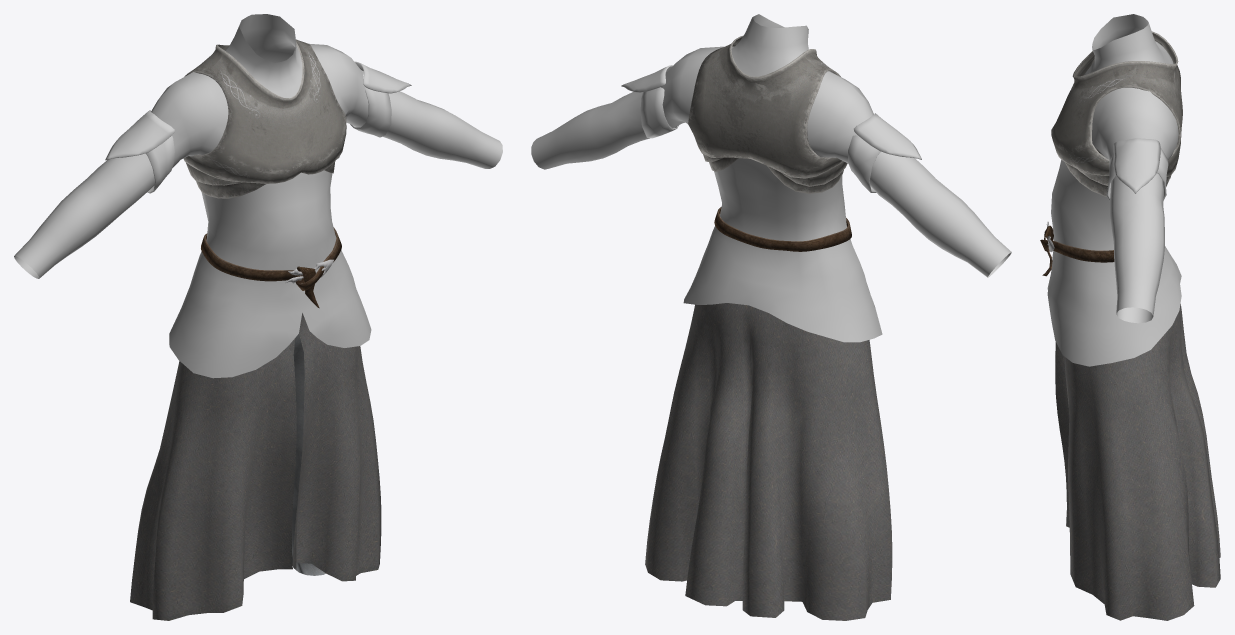
File: rivendell_torso_scalemail_tier2_silver.fbx
3 renders of one model, left to right at view 1: azimuth 30°, elevation 25°; view 2: azimuth 150°, elevation 25°; view 3: azimuth 270°, elevation 25°, orthographic. The views are drawn at different scales.
Visible parts, largest first — view 1: rivendell_torso_scalemail_tier2_silver.0, rivendell_torso_scalemail_tier2_silver.4, rivendell_torso_scalemail_tier2_silver.3, rivendell_torso_scalemail_tier2_silver.2, rivendell_torso_scalemail_tier2_silver.1; view 2: rivendell_torso_scalemail_tier2_silver.0, rivendell_torso_scalemail_tier2_silver.4, rivendell_torso_scalemail_tier2_silver.3, rivendell_torso_scalemail_tier2_silver.2, rivendell_torso_scalemail_tier2_silver.1; view 3: rivendell_torso_scalemail_tier2_silver.0, rivendell_torso_scalemail_tier2_silver.4, rivendell_torso_scalemail_tier2_silver.3, rivendell_torso_scalemail_tier2_silver.2, rivendell_torso_scalemail_tier2_silver.1.
Boxes of the visible parts, bbox=[...] form: rivendell_torso_scalemail_tier2_silver.0: bbox=[130, 313, 381, 620]; rivendell_torso_scalemail_tier2_silver.4: bbox=[14, 14, 502, 378]; rivendell_torso_scalemail_tier2_silver.3: bbox=[183, 39, 346, 198]; rivendell_torso_scalemail_tier2_silver.2: bbox=[105, 61, 411, 193]; rivendell_torso_scalemail_tier2_silver.1: bbox=[201, 227, 341, 308]; rivendell_torso_scalemail_tier2_silver.0: bbox=[645, 303, 892, 620]; rivendell_torso_scalemail_tier2_silver.4: bbox=[531, 14, 1011, 342]; rivendell_torso_scalemail_tier2_silver.3: bbox=[688, 36, 847, 193]; rivendell_torso_scalemail_tier2_silver.2: bbox=[621, 65, 921, 192]; rivendell_torso_scalemail_tier2_silver.1: bbox=[714, 207, 851, 251]; rivendell_torso_scalemail_tier2_silver.0: bbox=[1055, 304, 1220, 620]; rivendell_torso_scalemail_tier2_silver.4: bbox=[1047, 14, 1181, 366]; rivendell_torso_scalemail_tier2_silver.3: bbox=[1051, 31, 1182, 196]; rivendell_torso_scalemail_tier2_silver.2: bbox=[1106, 138, 1168, 200]; rivendell_torso_scalemail_tier2_silver.1: bbox=[1040, 221, 1114, 276].
Bounding box in the file's own units: 1.27 × 0.4287 × 1.44.
